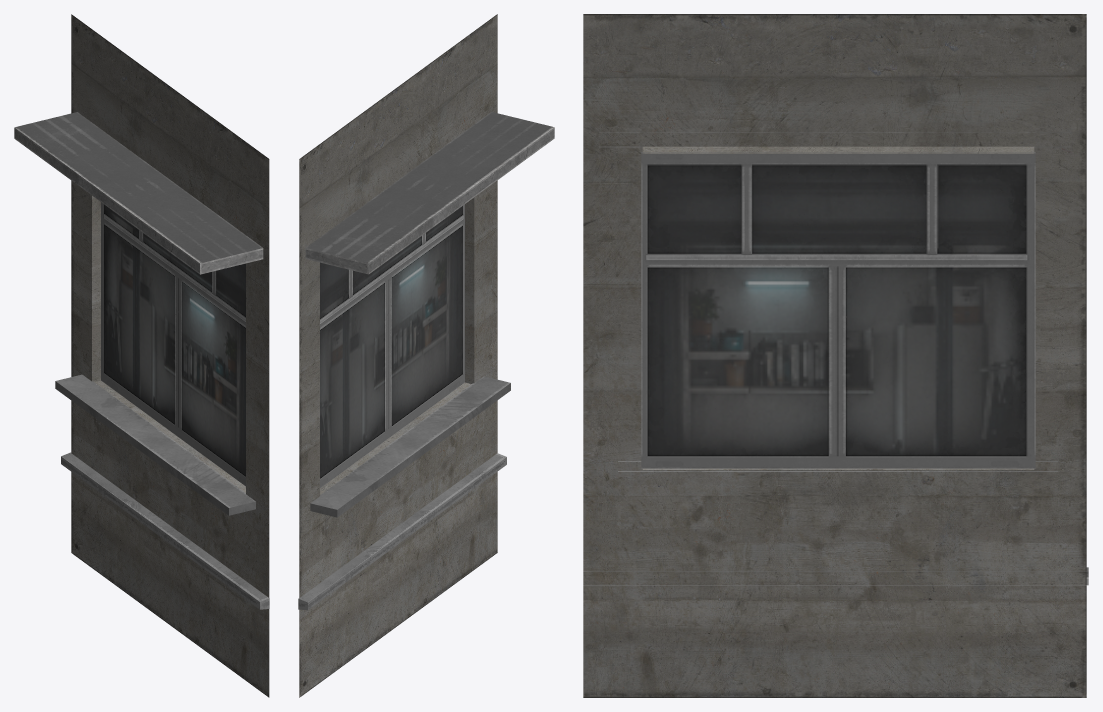
File: CP_Windows_A_2x3m_02.fbx
3 renders of one model, left to right at view 1: azimuth 30°, elevation 25°; view 2: azimuth 150°, elevation 25°; view 3: azimuth 270°, elevation 25°, orthographic. The views are drawn at different scales.
Parts seen in each view (by area): view 1: CP_Windows_B_2x3m_01; view 2: CP_Windows_B_2x3m_01; view 3: CP_Windows_B_2x3m_01.
Part boxes in pixels (<box>): CP_Windows_B_2x3m_01: <box>14,14,269,697</box>; CP_Windows_B_2x3m_01: <box>298,14,554,697</box>; CP_Windows_B_2x3m_01: <box>583,14,1088,697</box>.
Bounding box in the file's own units: 43.51 × 300 × 201.
